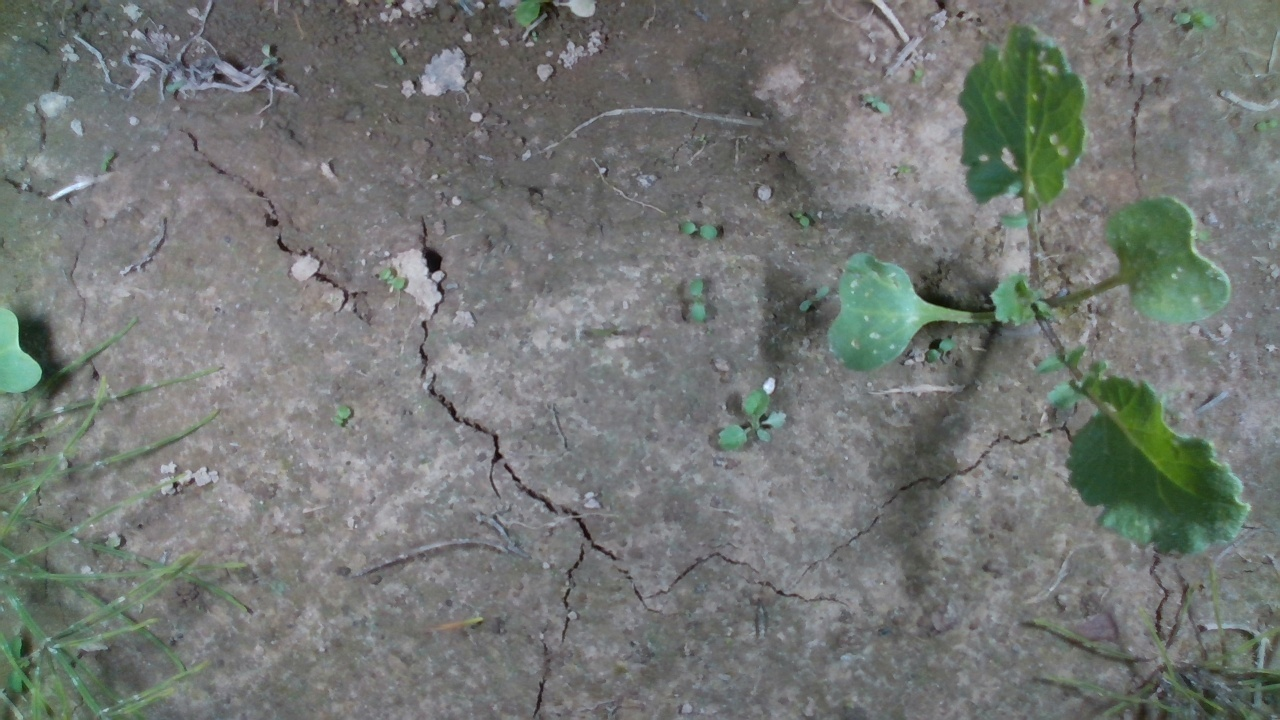weed: (715, 388, 789, 453), (1169, 5, 1219, 33), (685, 277, 708, 325), (921, 335, 957, 365), (677, 218, 719, 240), (797, 284, 831, 311), (860, 92, 891, 116), (377, 266, 406, 290), (329, 403, 352, 425), (787, 209, 811, 229), (1253, 116, 1279, 133), (98, 149, 116, 173), (387, 43, 404, 67)
